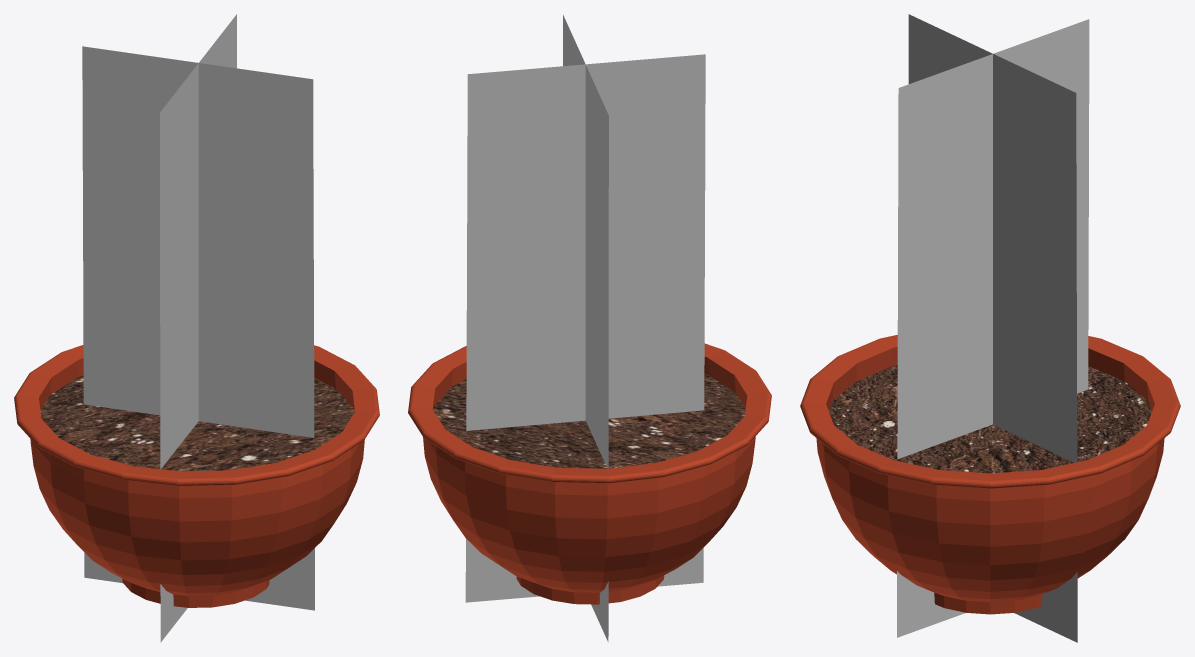
File: treeplot.fbx
The picture shows the model from 3 angles, left to right: view 1: azimuth 30°, elevation 25°; view 2: azimuth 150°, elevation 25°; view 3: azimuth 270°, elevation 25°; orthographic projection. The views are drawn at different scales.
Parts seen in each view (by area): view 1: pCube3, pDisc2; view 2: pCube3, pDisc2; view 3: pCube3, pDisc2.
Boxes of the visible parts, x1,y1,x2,y2 form: pCube3: [82, 14, 314, 642]; pDisc2: [14, 345, 379, 607]; pCube3: [465, 15, 705, 641]; pDisc2: [408, 343, 771, 604]; pCube3: [897, 14, 1089, 642]; pDisc2: [800, 335, 1180, 614].
Bounding box in the file's own units: 5.38 × 8.58 × 5.38.
